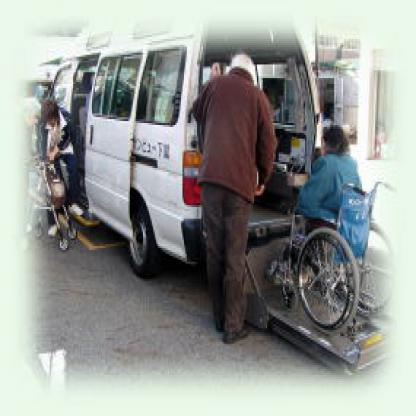wheelchair: (274, 123, 396, 336)
